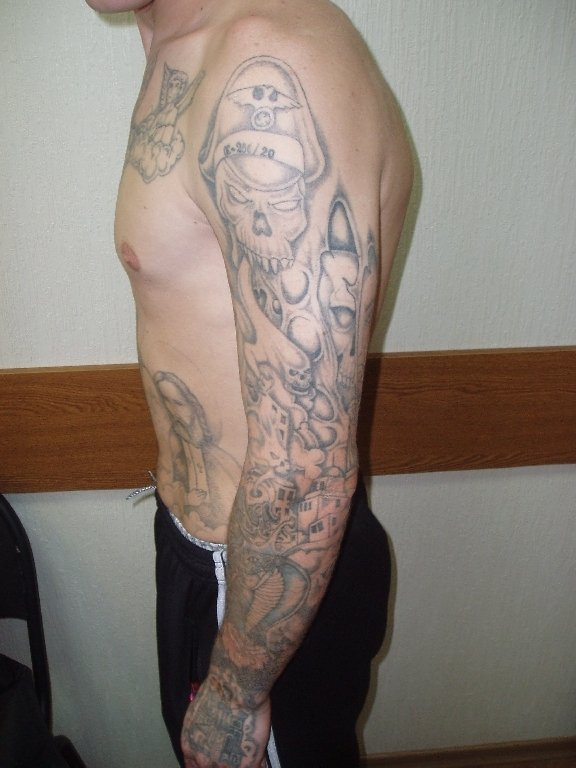tatu1_angel: (132, 55, 208, 191)
tatu7_zmeya: (237, 535, 319, 680)
